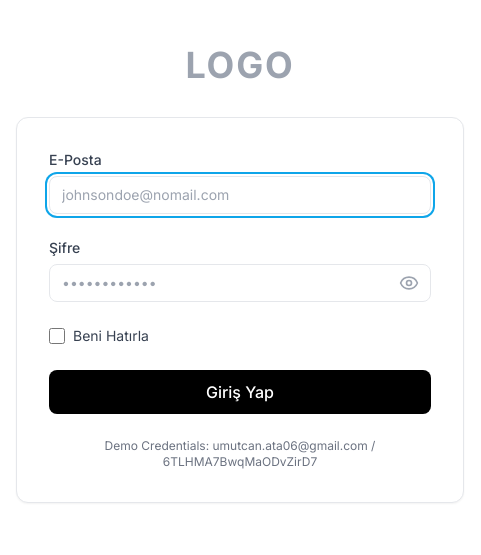
Test: LoginPage › Input Validation › should show error when password is empty
Type "test@example.com" into the field labelled "E-Posta" at coordinates (240, 195), box [49, 176, 431, 214]
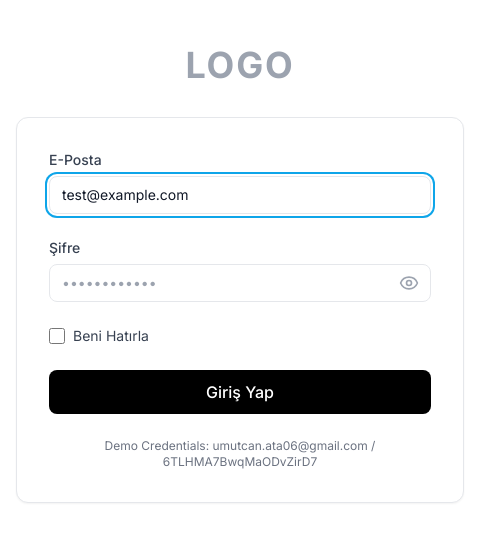
Click the button "Giriş Yap" at coordinates (240, 392), box [49, 370, 431, 414]
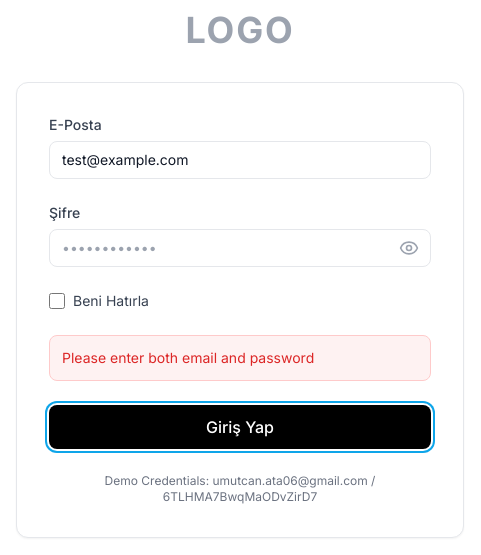
Expected: the text "Please enter both email and password" is shown, [62, 349, 314, 366]
